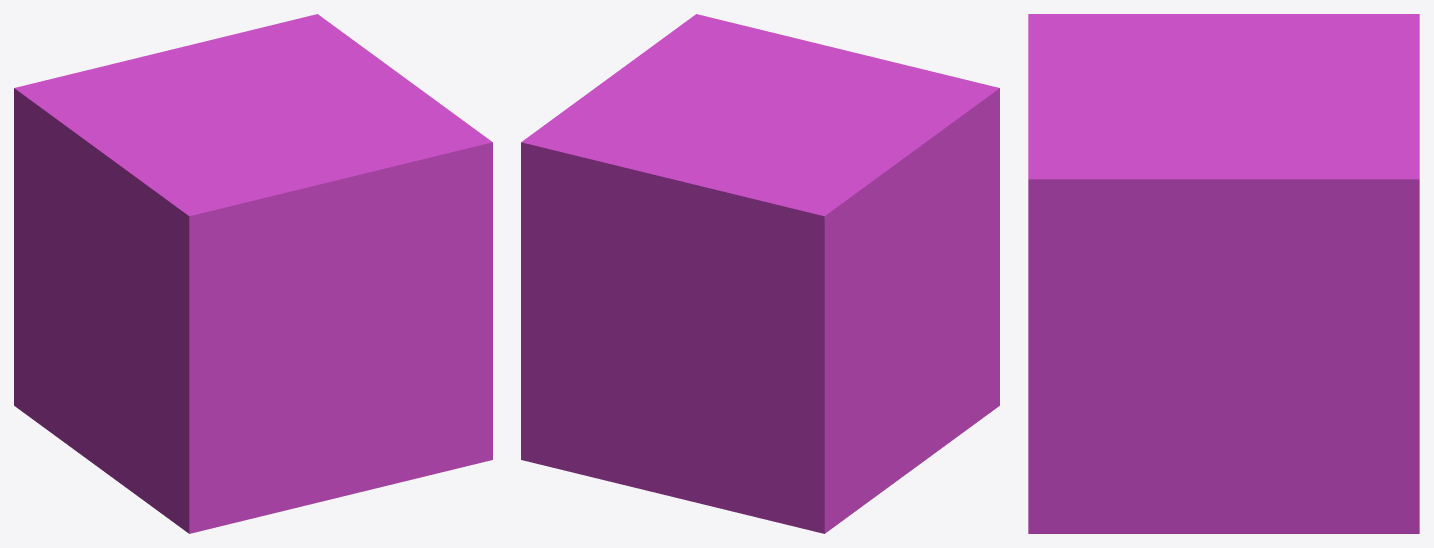
The model's file is ae_jsx_Box01.obj.
3 views of the same model, side by side, from view 1: azimuth 30°, elevation 25°; view 2: azimuth 150°, elevation 25°; view 3: azimuth 270°, elevation 25° (orthographic). The views are drawn at different scales.
Visible parts, largest first — view 1: Box01; view 2: Box01; view 3: Box01.
Part boxes in pixels (x1,y1,x2,y2): Box01: (14,14,492,533); Box01: (521,14,999,533); Box01: (1028,14,1419,533).
Size of the model in its own units: 1 by 1 by 1.
